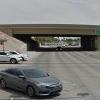Bridge: (2, 15, 96, 49)
